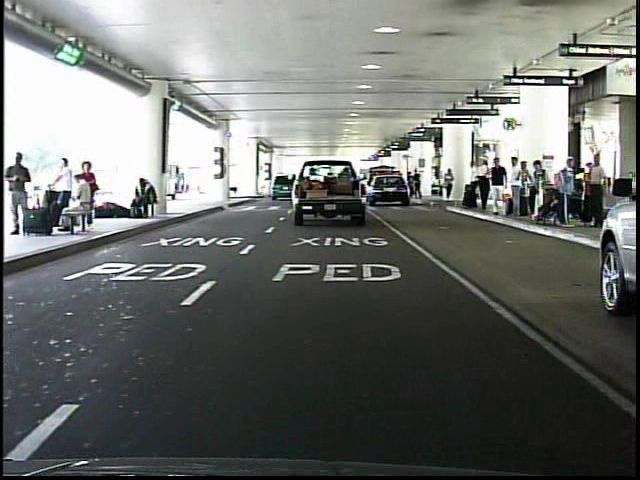person: (11, 151, 40, 240), (485, 154, 510, 224), (506, 155, 527, 220), (462, 155, 483, 213), (441, 166, 457, 204), (414, 168, 423, 203), (406, 169, 415, 201)
